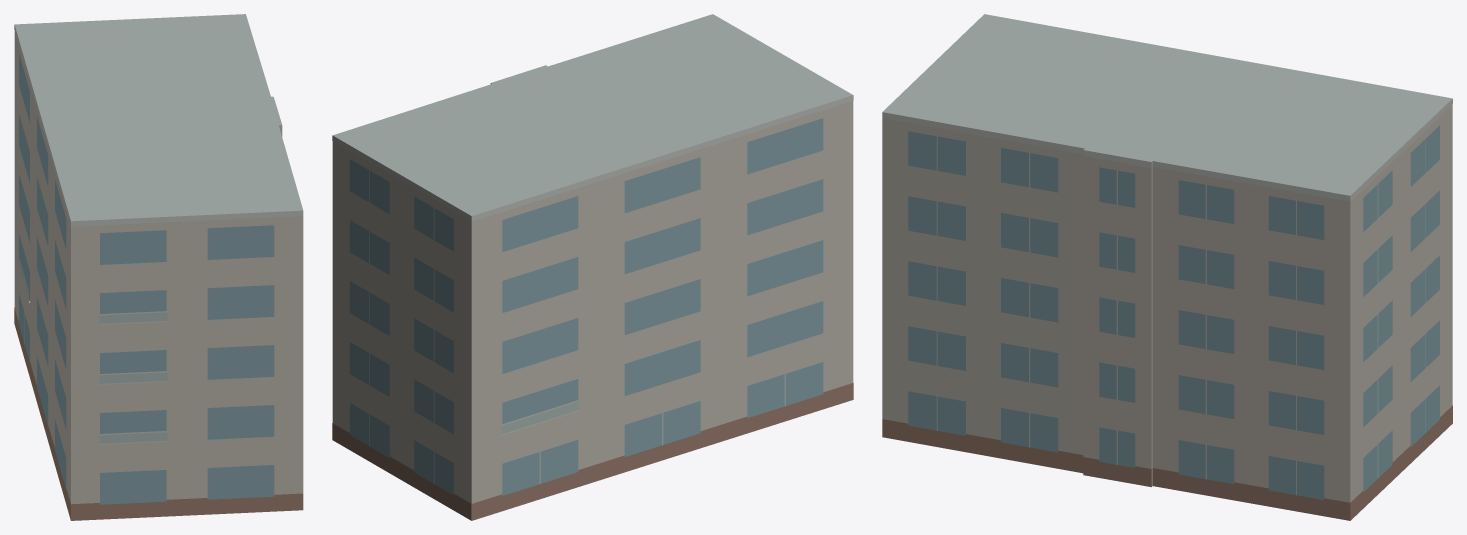
Rendered from survey-upis-32739944.glb.
The picture shows the model from 3 angles, left to right: view 1: azimuth 30°, elevation 25°; view 2: azimuth 150°, elevation 25°; view 3: azimuth 270°, elevation 25°; orthographic projection. The views are drawn at different scales.
Parts seen in each view (by area): view 1: survey-upis-32739944.tmp; view 2: survey-upis-32739944.tmp; view 3: survey-upis-32739944.tmp.
Part boxes in pixels (<box>): survey-upis-32739944.tmp: <box>14,14,303,520</box>; survey-upis-32739944.tmp: <box>332,14,853,520</box>; survey-upis-32739944.tmp: <box>882,14,1452,520</box>.
Bounding box in the file's own units: 15.97 × 13.3 × 21.17.
